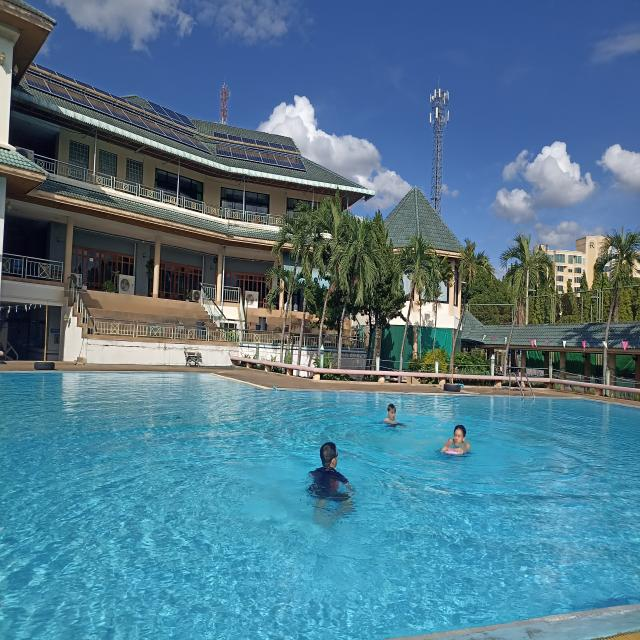Swimming: (303, 437, 364, 511), (439, 420, 476, 460), (382, 401, 406, 435)
